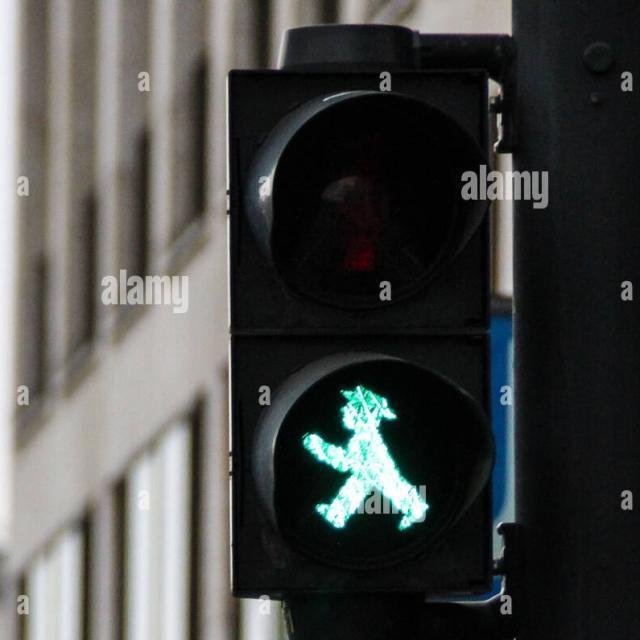geen-crossing: (292, 370, 436, 538)
